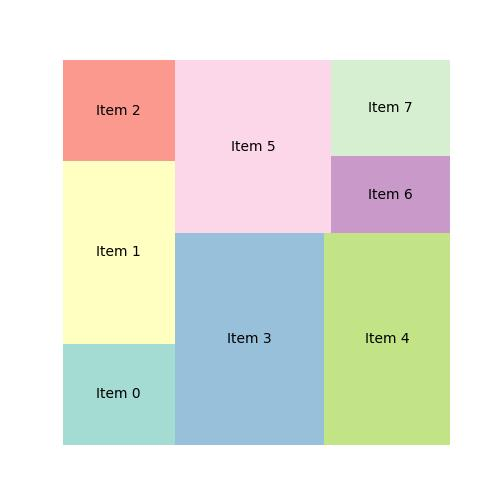rectangle: (175, 234, 325, 446), (174, 59, 331, 236), (326, 233, 451, 446), (64, 161, 176, 343), (64, 342, 176, 446), (61, 60, 175, 162), (331, 59, 450, 156), (331, 156, 451, 233)
